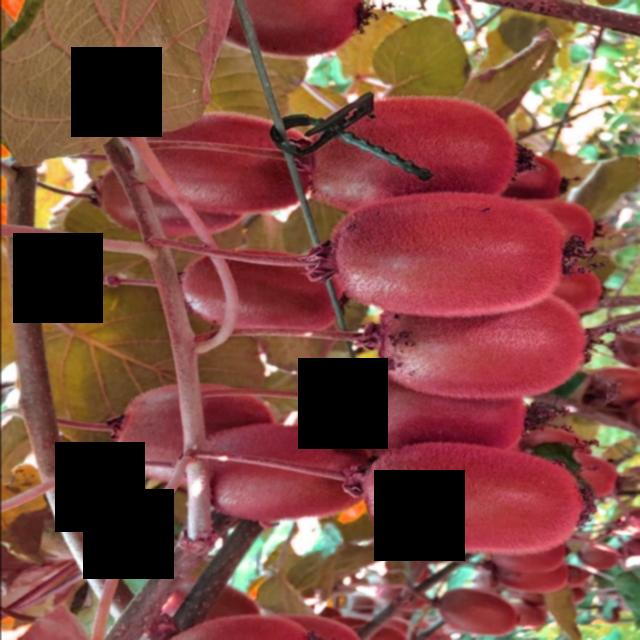kiwi: (320, 187, 569, 322), (359, 442, 595, 556), (303, 91, 523, 211), (365, 289, 589, 403), (195, 415, 383, 525), (130, 110, 324, 214), (337, 362, 537, 460), (113, 380, 277, 484), (177, 244, 349, 338), (87, 159, 238, 241), (207, 2, 382, 66), (150, 574, 274, 631), (149, 606, 325, 640), (499, 139, 579, 207), (428, 585, 522, 638), (548, 254, 611, 322), (535, 192, 604, 252), (480, 536, 570, 575), (479, 562, 569, 596), (572, 453, 623, 504), (270, 612, 362, 640), (575, 542, 623, 574), (505, 603, 552, 633), (356, 621, 414, 640)
